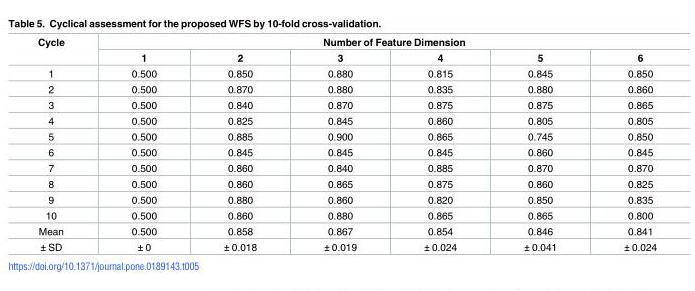table: (36, 37, 656, 252)
table column: (189, 37, 289, 252), (289, 37, 389, 252), (389, 37, 489, 252), (489, 37, 589, 252), (97, 37, 189, 252), (589, 37, 656, 252), (36, 37, 97, 252)
table column header: (36, 37, 656, 65)
table row: (36, 49, 656, 65), (36, 65, 656, 81), (36, 81, 656, 97), (36, 97, 656, 113), (36, 128, 656, 144), (36, 144, 656, 160), (36, 160, 656, 176), (36, 176, 656, 192), (36, 207, 656, 223), (36, 113, 656, 128), (36, 192, 656, 207), (36, 223, 656, 238), (36, 238, 656, 252), (36, 37, 656, 49)
table spanning cell: (97, 37, 656, 49), (36, 37, 97, 65)
